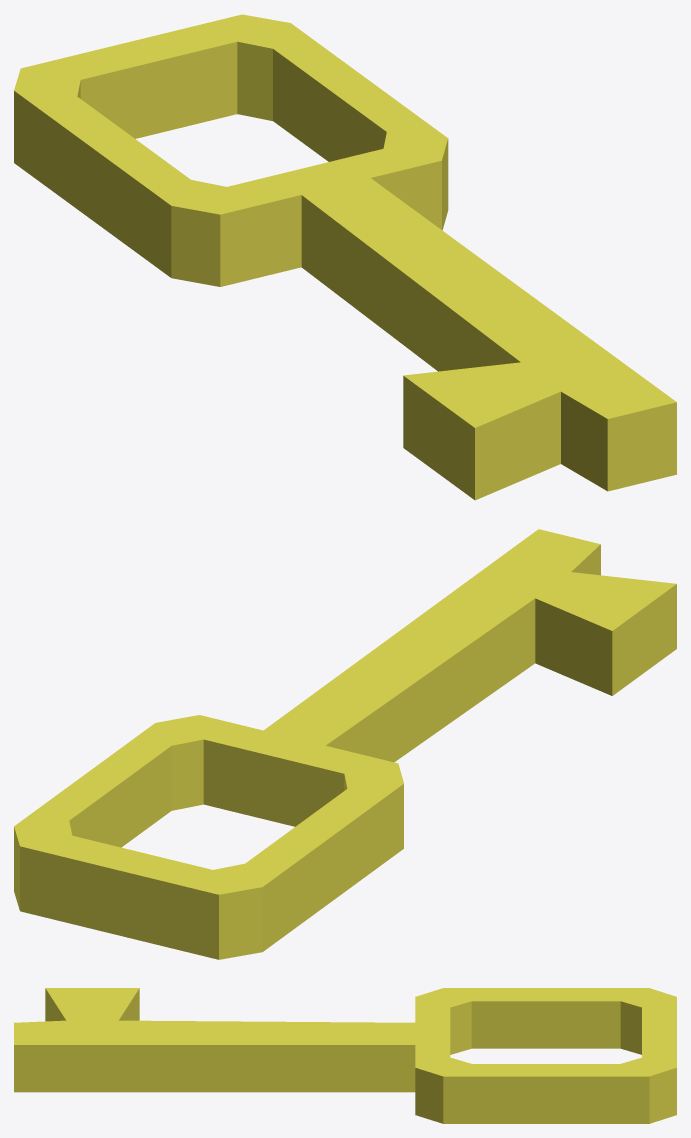
The model's file is Starmall key.fbx.
The picture shows the model from 3 angles, top to bottom: view 1: azimuth 30°, elevation 25°; view 2: azimuth 150°, elevation 25°; view 3: azimuth 270°, elevation 25°; orthographic projection. The views are drawn at different scales.
Visible parts, largest first — view 1: Cube.003; view 2: Cube.003; view 3: Cube.003.
Part boxes in pixels (<box>): Cube.003: <box>14,14,676,500</box>; Cube.003: <box>14,529,676,959</box>; Cube.003: <box>14,988,676,1123</box>.
Bounding box in the file's own units: 0.084 × 0.021 × 0.266.
